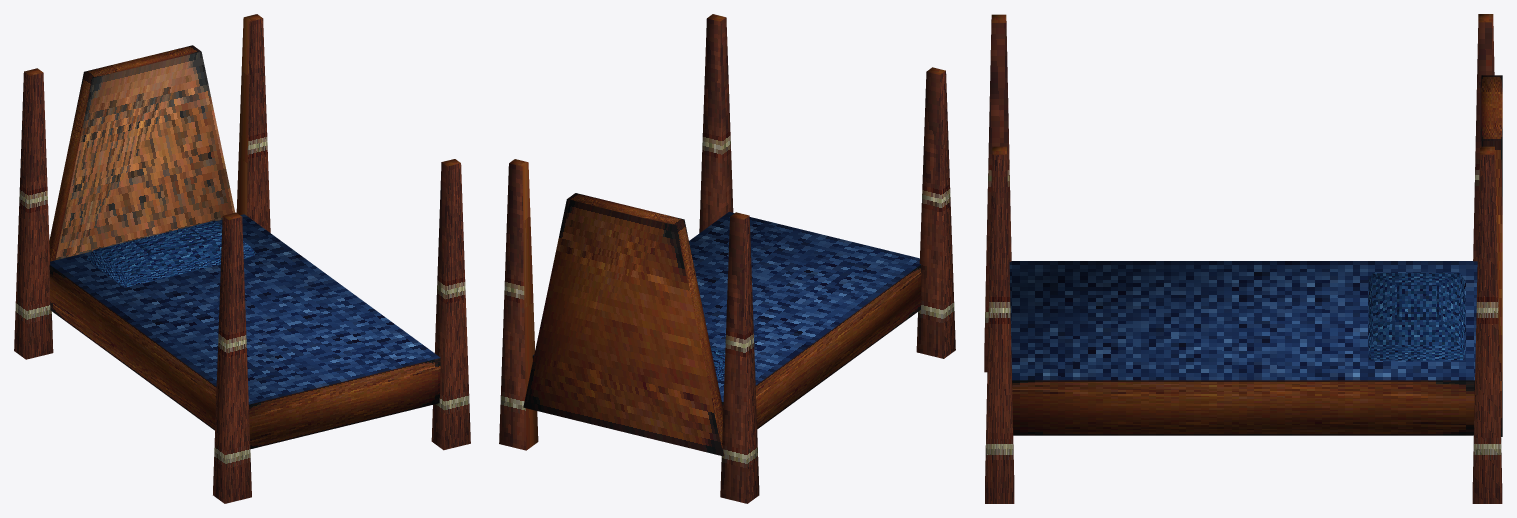
The model's file is BED5_ACTORDEF.fbx.
3 views of the same model, side by side, from view 1: azimuth 30°, elevation 25°; view 2: azimuth 150°, elevation 25°; view 3: azimuth 270°, elevation 25° (orthographic). The views are drawn at different scales.
Visible parts, largest first — view 1: U3DMesh; view 2: U3DMesh; view 3: U3DMesh.
Part boxes in pixels (left/top/right/bottom): U3DMesh: left=14, top=14, right=470, bottom=503; U3DMesh: left=499, top=14, right=955, bottom=503; U3DMesh: left=984, top=14, right=1502, bottom=503.
Size of the model in its own units: 6.93 by 7.49 by 10.2.
